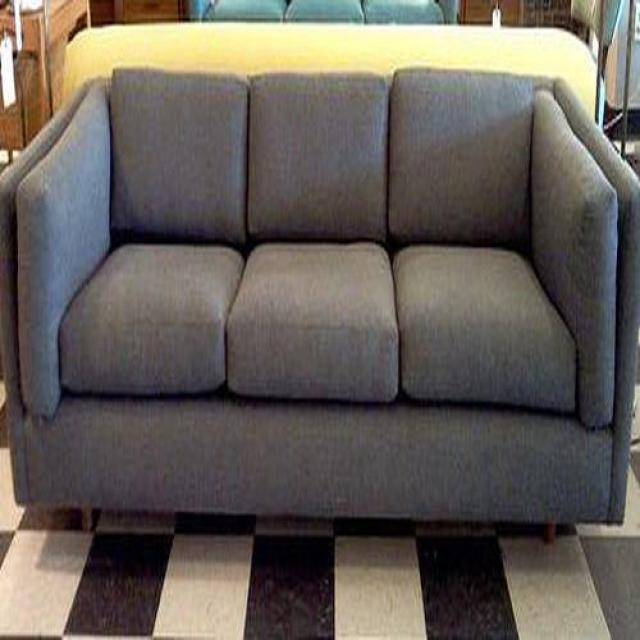sofa: (0, 24, 640, 541)
